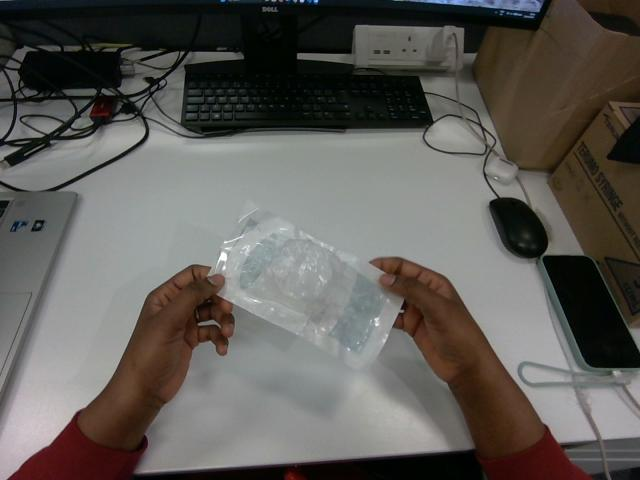gallipot: (212, 203, 401, 368)
